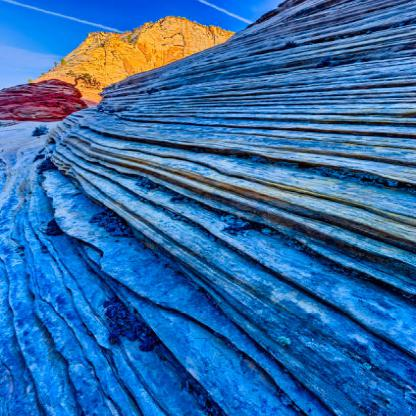Sedimentary_Sandstone: (49, 9, 263, 110)
